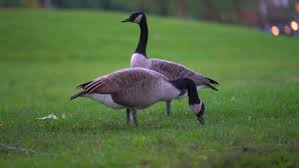goose: (120, 12, 223, 104), (69, 67, 209, 128)
